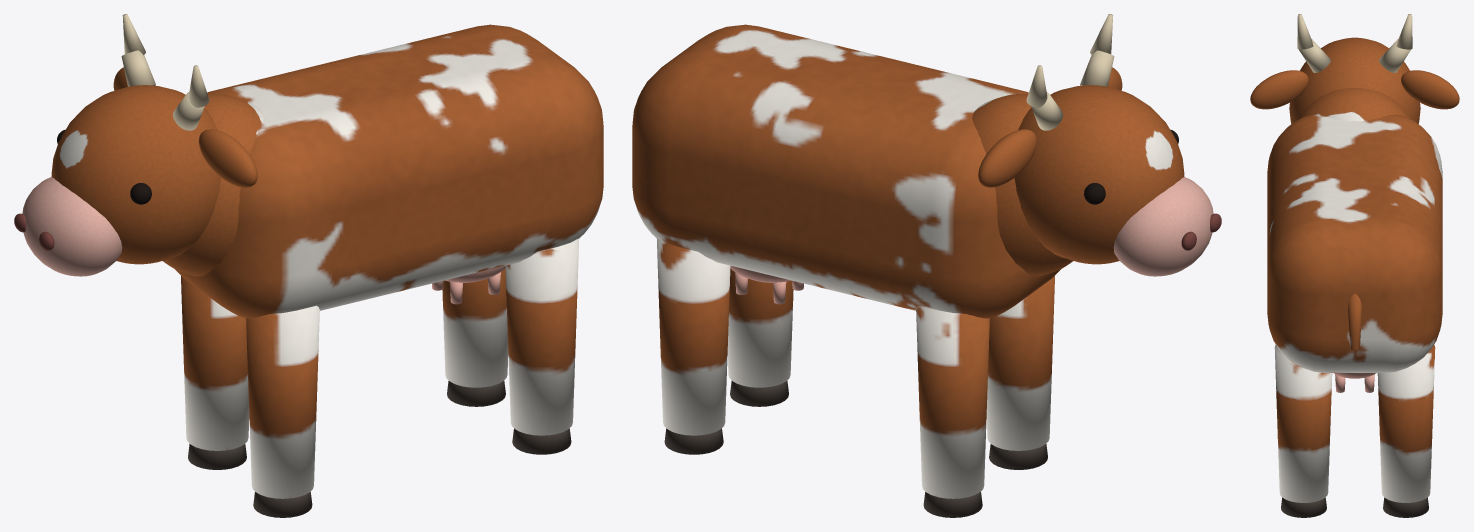
File: vaca finca.fbx
3 renders of one model, left to right at view 1: azimuth 30°, elevation 25°; view 2: azimuth 150°, elevation 25°; view 3: azimuth 270°, elevation 25°, orthographic. The views are drawn at different scales.
Visible parts, largest first — view 1: Cuerpo, Cabeza, Pata_del_der, Pata_tras_der, Pata_del_izq, Hocico, Pata_tras_izq, Cuello, Oreja_der, Pezuna_tras_der, Pezuna_tras_izq, Pezuna_del_der (+3 smaller); view 2: Cuerpo, Cabeza, Pata_del_izq, Pata_tras_izq, Pata_del_der, Hocico, Pata_tras_der, Cuello, Oreja_izq, Pezuna_tras_der, Pezuna_tras_izq, Pezuna_del_izq (+3 smaller); view 3: Cuerpo, Pata_tras_izq, Pata_tras_der, Cabeza, Cuello, Oreja_der, Oreja_izq, Pezuna_tras_der, Pezuna_tras_izq, Cola, Cuerno_base_der, Cuerno_base_izq (+2 smaller).
Part boxes in pixels (left/top/right/bottom): Cuerpo: left=175, top=24, right=603, bottom=318; Cabeza: left=51, top=85, right=221, bottom=264; Pata_del_der: left=246, top=305, right=319, bottom=498; Pata_tras_der: left=505, top=238, right=578, bottom=435; Pata_del_izq: left=181, top=276, right=249, bottom=450; Hocico: left=22, top=177, right=122, bottom=276; Pata_tras_izq: left=442, top=268, right=508, bottom=387; Cuello: left=163, top=94, right=263, bottom=276; Oreja_der: left=198, top=129, right=257, bottom=187; Pezuna_tras_der: left=512, top=428, right=571, bottom=454; Pezuna_tras_izq: left=447, top=380, right=505, bottom=406; Pezuna_del_der: left=253, top=492, right=312, bottom=517; Cuerpo: left=632, top=24, right=1060, bottom=318; Cabeza: left=1014, top=85, right=1184, bottom=264; Pata_del_izq: left=916, top=305, right=989, bottom=498; Pata_tras_izq: left=657, top=238, right=730, bottom=435; Pata_del_der: left=986, top=276, right=1054, bottom=450; Hocico: left=1113, top=177, right=1213, bottom=276; Pata_tras_der: left=727, top=268, right=793, bottom=387; Cuello: left=972, top=94, right=1072, bottom=276; Oreja_izq: left=978, top=129, right=1037, bottom=187; Pezuna_tras_der: left=730, top=380, right=788, bottom=406; Pezuna_tras_izq: left=664, top=428, right=723, bottom=454; Pezuna_del_izq: left=923, top=492, right=982, bottom=517; Cuerpo: left=1267, top=114, right=1442, bottom=372; Pata_tras_izq: left=1377, top=344, right=1435, bottom=502; Pata_tras_der: left=1274, top=344, right=1332, bottom=502; Cabeza: left=1289, top=37, right=1420, bottom=123; Cuello: left=1300, top=88, right=1409, bottom=121; Oreja_der: left=1250, top=70, right=1308, bottom=109; Oreja_izq: left=1401, top=70, right=1459, bottom=109; Pezuna_tras_der: left=1281, top=497, right=1326, bottom=517; Pezuna_tras_izq: left=1383, top=497, right=1428, bottom=517; Cola: left=1348, top=294, right=1361, bottom=349; Cuerno_base_der: left=1299, top=39, right=1330, bottom=72; Cuerno_base_izq: left=1379, top=39, right=1410, bottom=72.
Size of the model in its own units: 209 by 164 by 86.1.
1 material, 1 textured.
